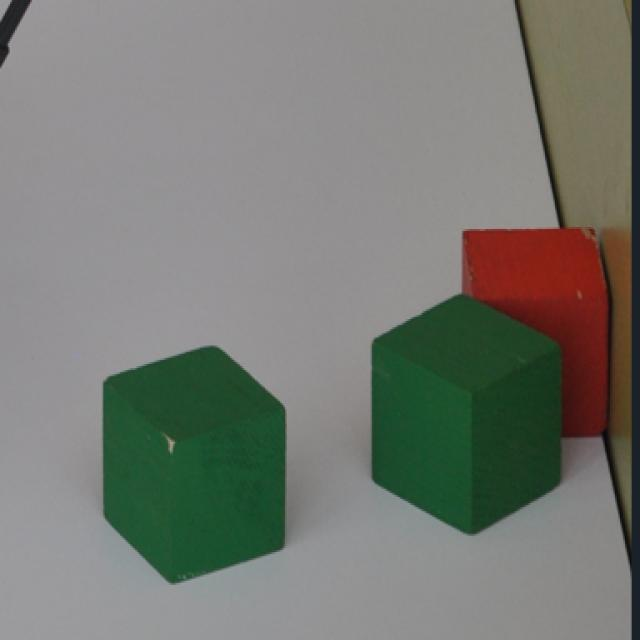green cube: (371, 291, 565, 539), (103, 343, 289, 585)
red cube: (461, 226, 613, 441)
